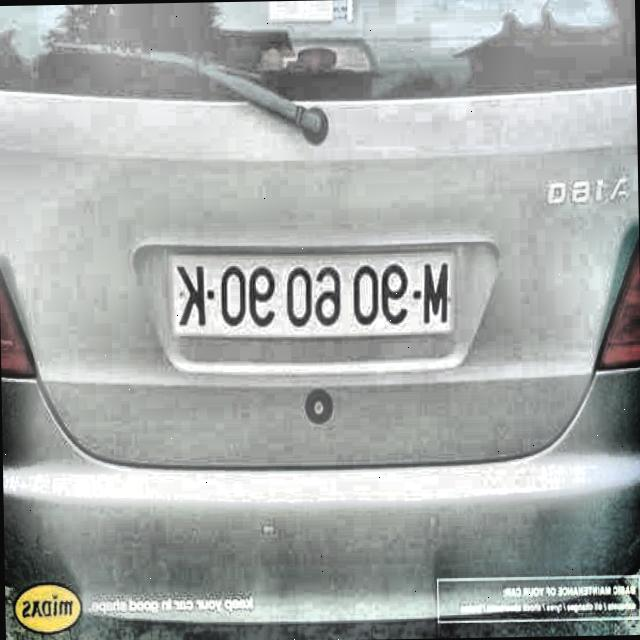license_plate: (173, 252, 454, 339)
